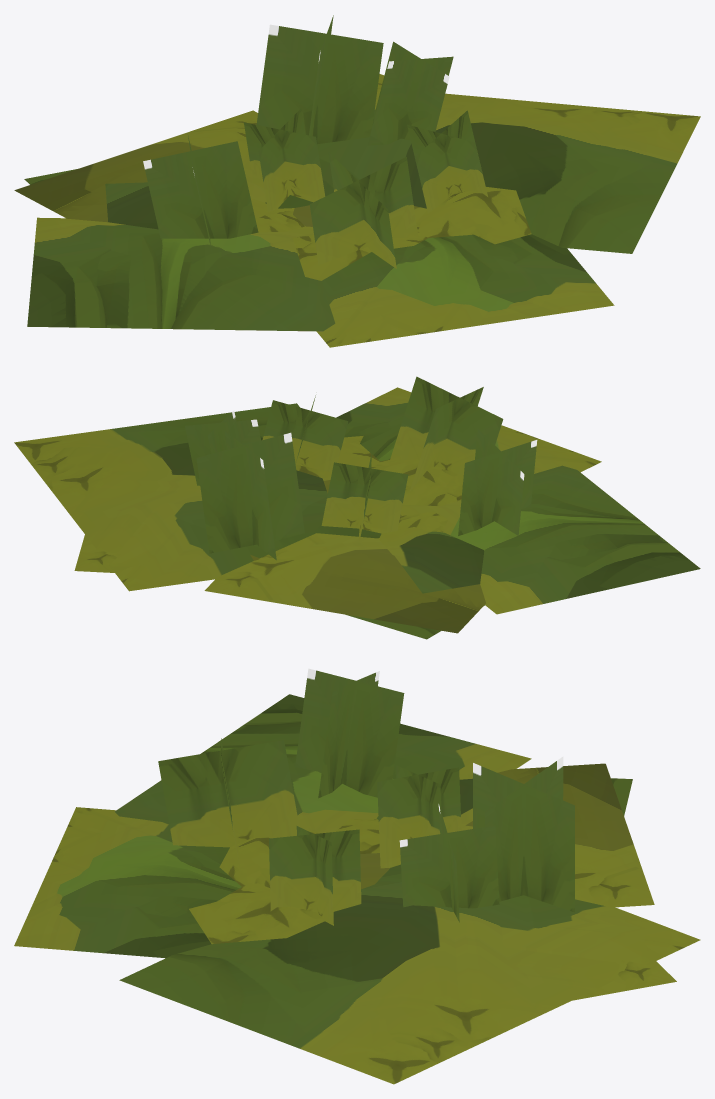
The model's file is SM_Env_Ground_Cover_01.fbx.
3 renders of one model, top to bottom at view 1: azimuth 30°, elevation 25°; view 2: azimuth 150°, elevation 25°; view 3: azimuth 270°, elevation 25°, orthographic. The views are drawn at different scales.
Visible parts, largest first — view 1: SM_Env_Ground_Cover_01; view 2: SM_Env_Ground_Cover_01; view 3: SM_Env_Ground_Cover_01.
Part boxes in pixels (x1,y1,x2,y2): SM_Env_Ground_Cover_01: (14,15,700,347); SM_Env_Ground_Cover_01: (14,376,700,639); SM_Env_Ground_Cover_01: (14,668,700,1084).
Size of the model in its own units: 239 by 44.23 by 177.
